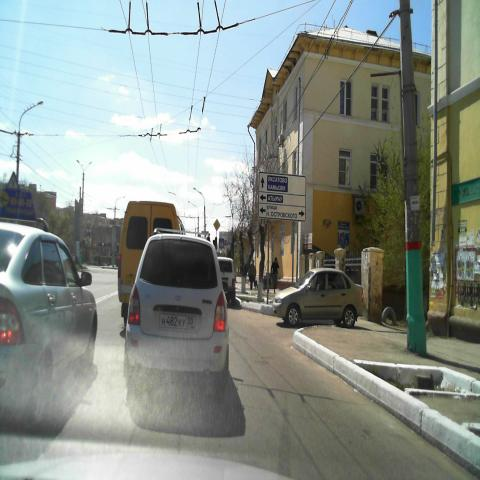2_1: (214, 218, 220, 231)
5_19_1: (219, 238, 224, 248)
